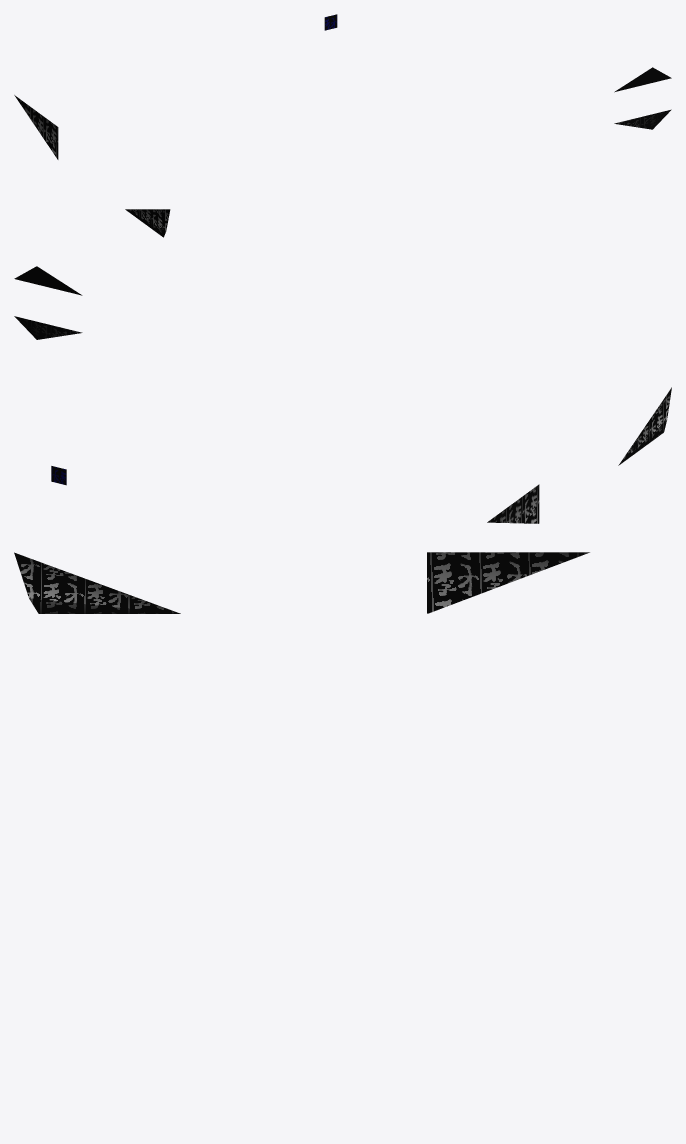
Rendered from ChicagoStealth_Alpha_83.glb.
3 views of the same model, one above another, from view 1: azimuth 30°, elevation 25°; view 2: azimuth 150°, elevation 25°; view 3: azimuth 270°, elevation 25° (orthographic). The views are drawn at different scales.
Parts seen in each view (by area): view 1: ChicagoStealth_Alpha_83; view 2: ChicagoStealth_Alpha_83; view 3: ChicagoStealth_Alpha_83.
Boxes of the visible parts, x1=… form: ChicagoStealth_Alpha_83: x1=14, y1=14, x2=671, y2=237; ChicagoStealth_Alpha_83: x1=14, y1=266, x2=671, y2=523; ChicagoStealth_Alpha_83: x1=14, y1=552, x2=589, y2=613.
Bounding box in the file's own units: 516 × 60.38 × 302.
Materials: 1 (1 with a texture image).
